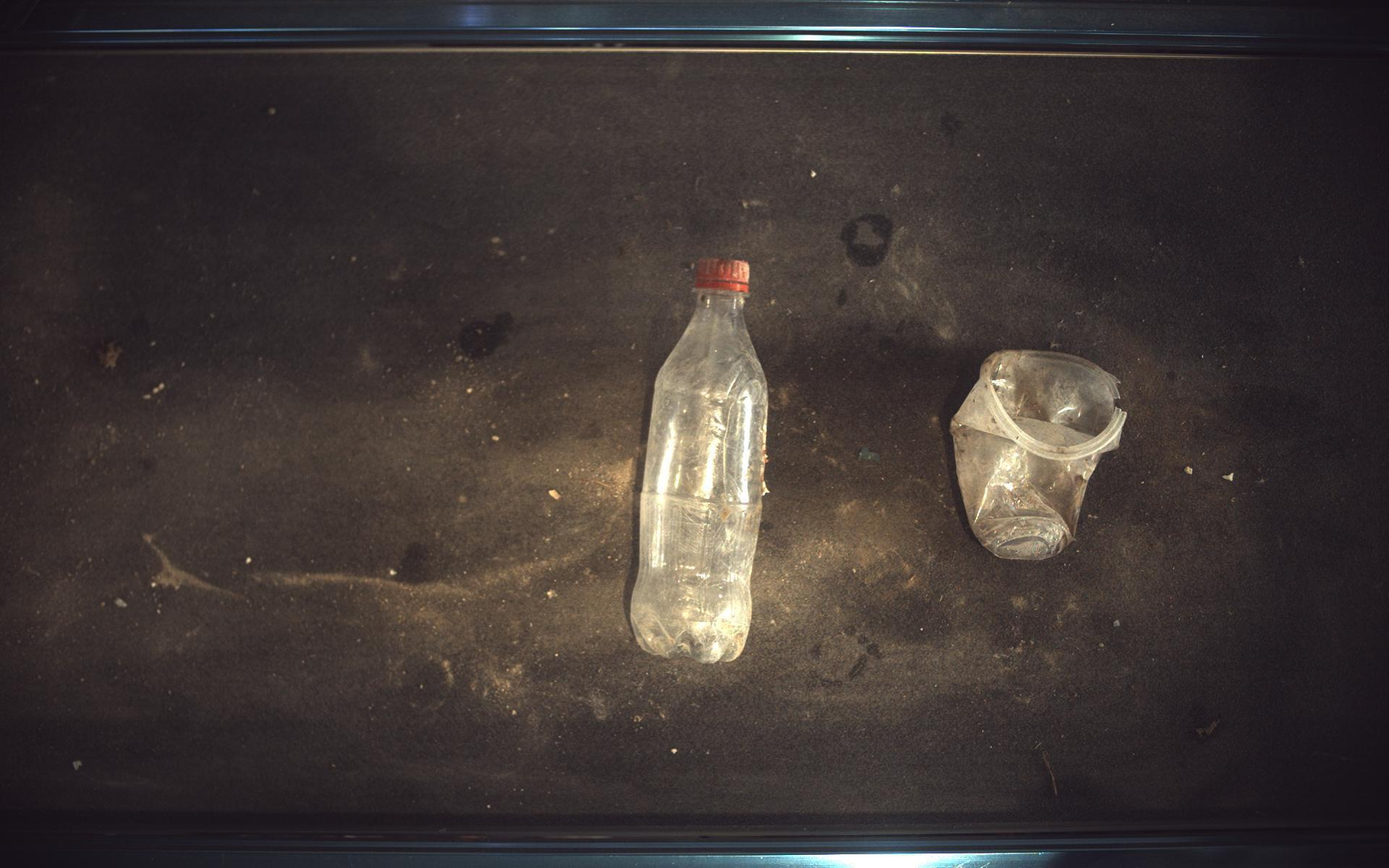general_w: (631, 258, 769, 663), (953, 352, 1129, 561)
